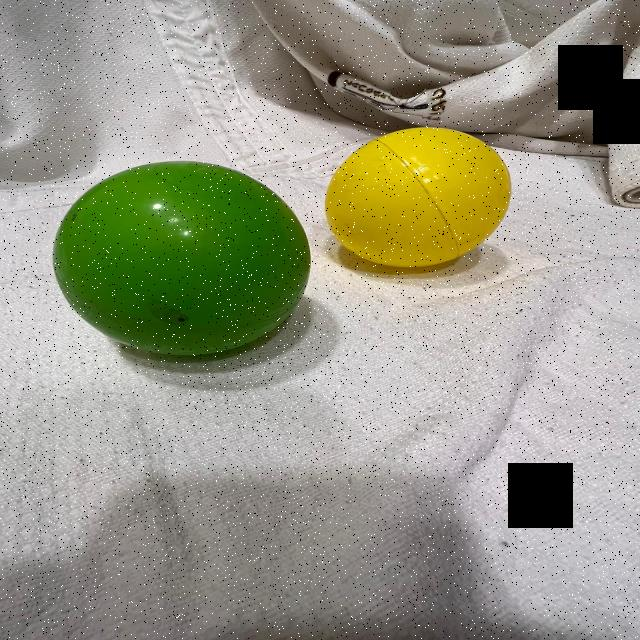ball: (51, 157, 312, 359), (323, 124, 512, 270)
